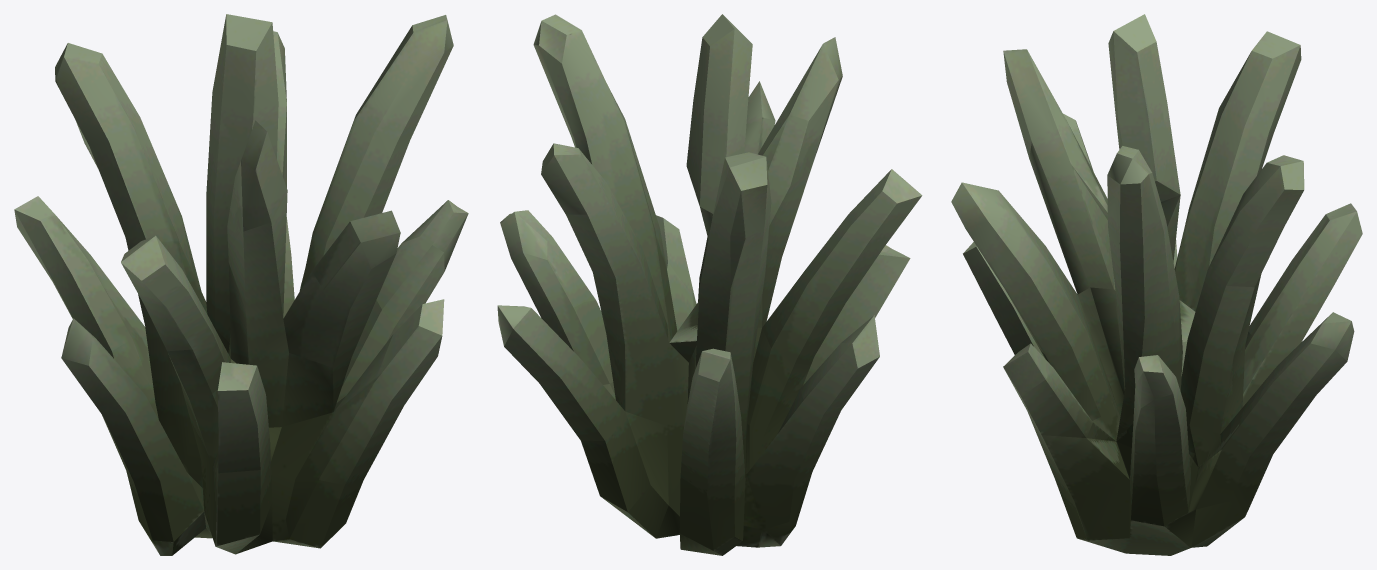
The model's file is wh-grass-tuft-pixelated.glb.
The picture shows the model from 3 angles, left to right: view 1: azimuth 30°, elevation 25°; view 2: azimuth 150°, elevation 25°; view 3: azimuth 270°, elevation 25°; orthographic projection. The views are drawn at different scales.
Parts seen in each view (by area): view 1: wh-grass-tuft-meshy.glb; view 2: wh-grass-tuft-meshy.glb; view 3: wh-grass-tuft-meshy.glb.
Boxes of the visible parts, x1,y1,x2,y2 form: wh-grass-tuft-meshy.glb: [14, 14, 468, 555]; wh-grass-tuft-meshy.glb: [497, 14, 922, 555]; wh-grass-tuft-meshy.glb: [951, 14, 1362, 555].
Bounding box in the file's own units: 1.46 × 1.86 × 1.36.
1 material, 1 textured.
